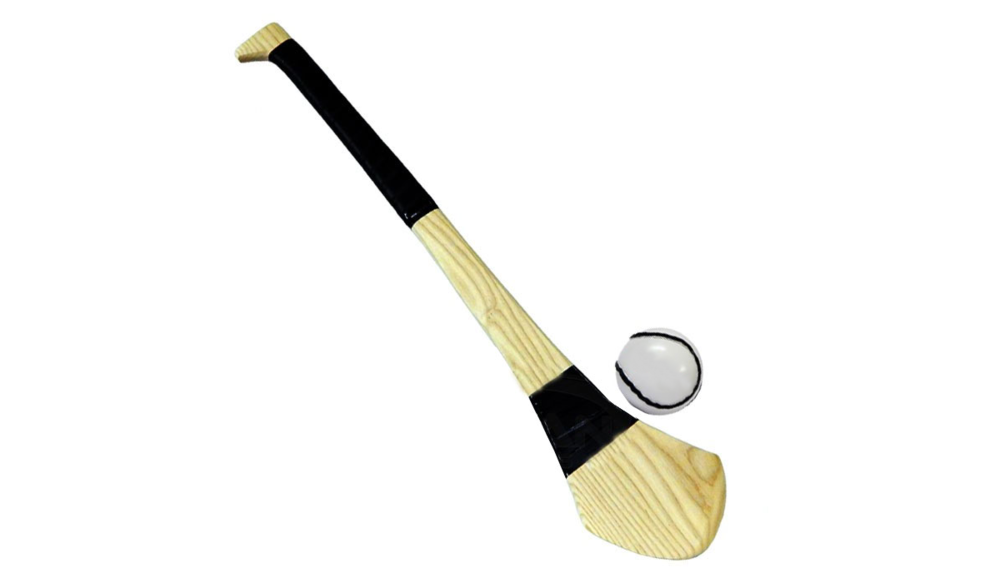hurley: (236, 21, 762, 560)
